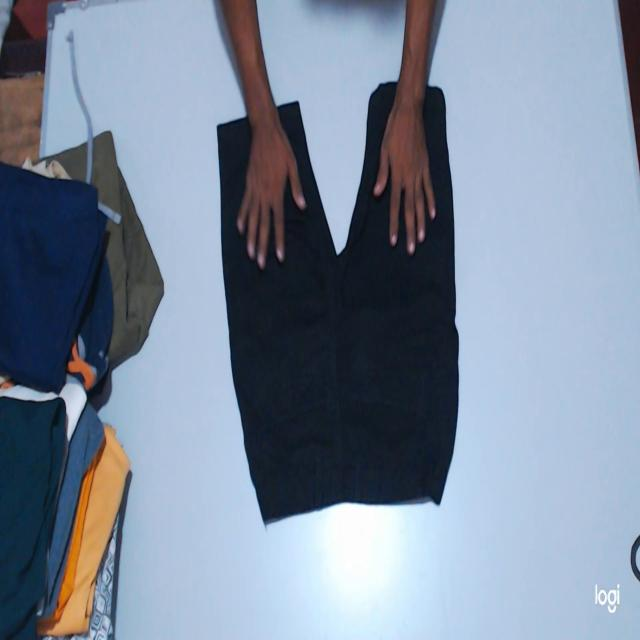new-garment: (218, 82, 458, 521)
